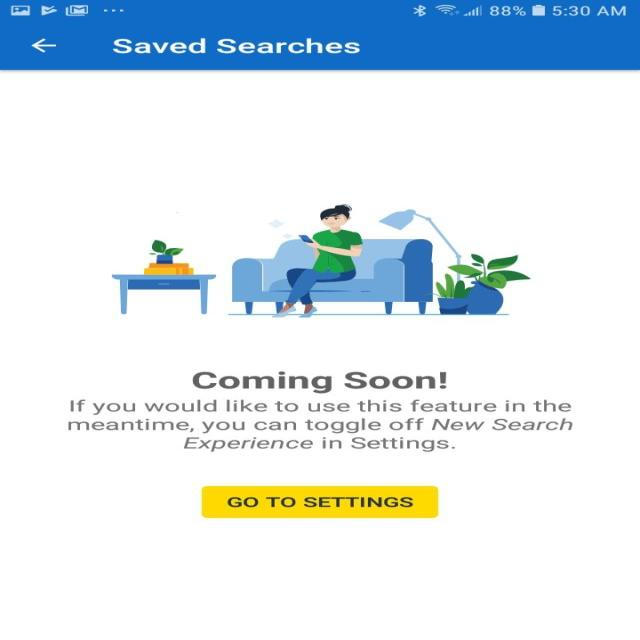Icon: (30, 38, 57, 53)
Image: (111, 203, 531, 318)
Text: (68, 399, 572, 452), (192, 371, 446, 393), (112, 37, 360, 54)
TextButton: (200, 485, 438, 518)
